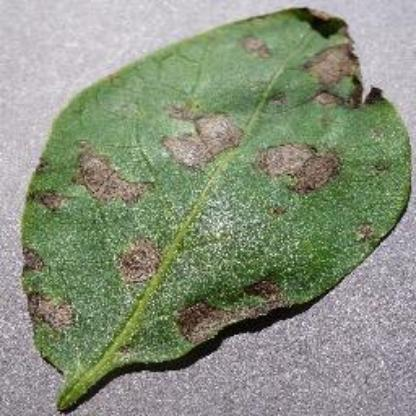Early-Blight: (25, 5, 414, 407)
